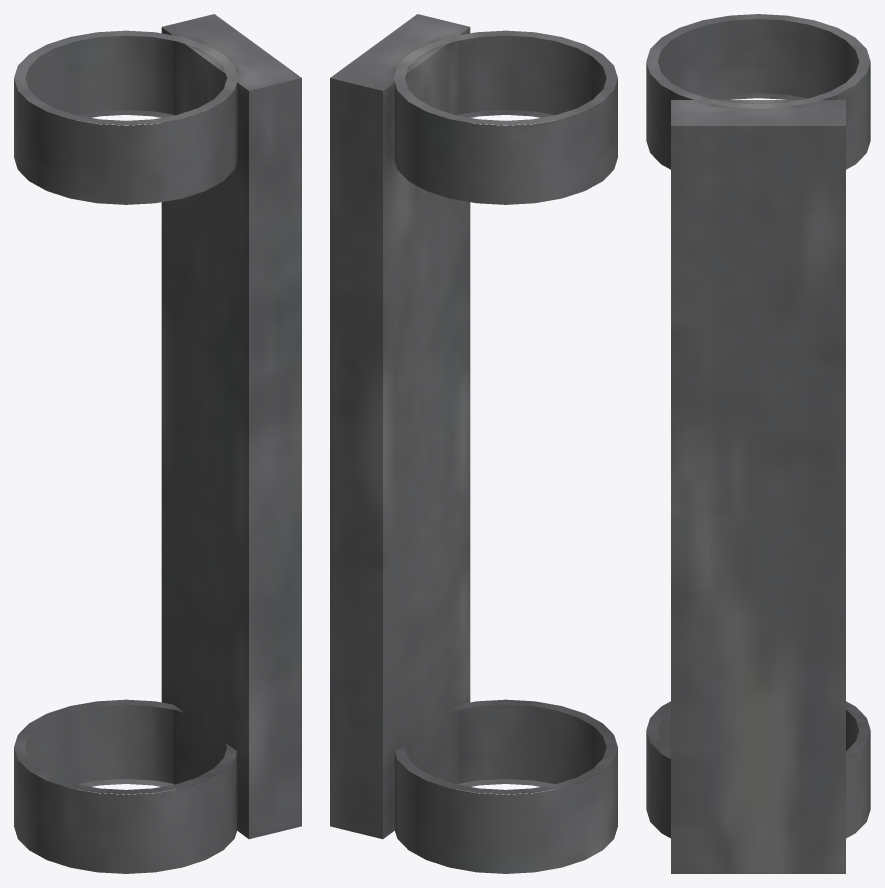
Rendered from pedMountPipe-v1-galvanised.glb.
3 renders of one model, left to right at view 1: azimuth 30°, elevation 25°; view 2: azimuth 150°, elevation 25°; view 3: azimuth 270°, elevation 25°, orthographic.
Parts seen in each view (by area): view 1: pedMountPipe-v1-galvanised; view 2: pedMountPipe-v1-galvanised; view 3: pedMountPipe-v1-galvanised.
Boxes of the visible parts, <box> form: pedMountPipe-v1-galvanised: <box>14,14,301,873</box>; pedMountPipe-v1-galvanised: <box>330,14,617,873</box>; pedMountPipe-v1-galvanised: <box>646,14,870,873</box>.
Bounding box in the file's own units: 0.1513 × 0.4721 × 0.1283.
Materials: 1 (1 with a texture image).
